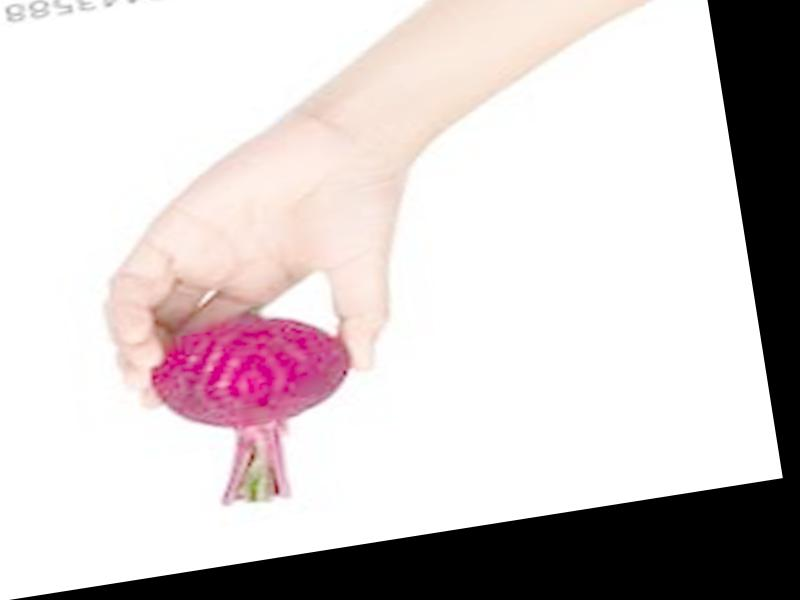Beet: (139, 305, 368, 517)
